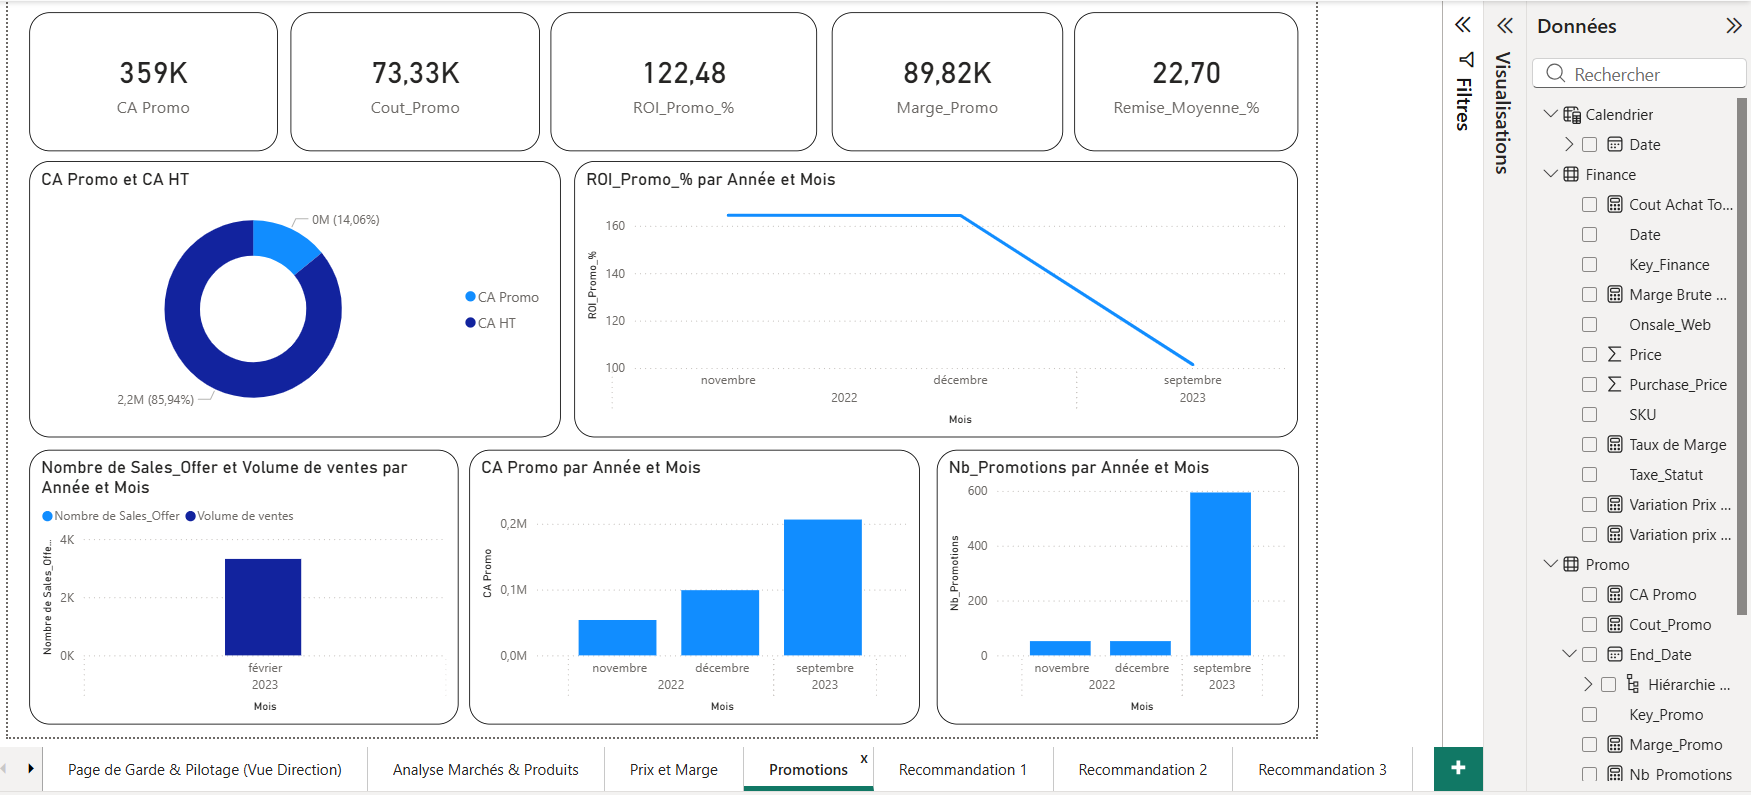

The page's visual inventory and layout, read from the dashboard file:
{"tool":"powerbi","page":{"name":"Promotions ","canvas":[1280,720],"ordinal":3},"visuals":[{"type":"columnChart","fields":{"Y":["Promo.CA Promo"],"Category":["Calendrier.Date.Variation.Hiérarchie de dates.Année","Calendrier.Date.Variation.Hiérarchie de dates.Mois"]},"box":[451.5,439.1,440.5,269],"z":0},{"type":"donutChart","fields":{"Y":["Promo.CA Promo","Sales.CA HT"]},"box":[20.6,156.4,520.1,270.3],"z":1000},{"type":"columnChart","fields":{"Category":["Calendrier.Date.Variation.Hiérarchie de dates.Année","Calendrier.Date.Variation.Hiérarchie de dates.Mois"],"Y":["CountNonNull(Promo.Sales_Offer)","Sales.Volume de ventes"]},"box":[20.6,439.1,419.9,269],"z":2000},{"type":"card","fields":{"Values":["Promo.CA Promo"]},"box":[20.6,11,242.9,135.8],"z":3000},{"type":"card","fields":{"Values":["Promo.Cout_Promo"]},"box":[275.8,11,244.3,135.8],"z":4000},{"type":"card","fields":{"Values":["Promo.Marge_Promo"]},"box":[805.5,11,226.4,135.8],"z":5000},{"type":"card","fields":{"Values":["Promo.ROI_Promo_%"]},"box":[531,11,260.7,135.8],"z":6000},{"type":"lineChart","fields":{"Y":["Promo.ROI_Promo_%"],"Category":["Calendrier.Date.Variation.Hiérarchie de dates.Année","Calendrier.Date.Variation.Hiérarchie de dates.Mois"]},"box":[554.4,156.4,708.1,270.3],"z":7000},{"type":"card","fields":{"Values":["Promo.Remise_Moyenne_%"]},"box":[1042.9,11,219.6,135.8],"z":8000},{"type":"columnChart","fields":{"Y":["Promo.Nb_Promotions"],"Category":["Calendrier.Date.Variation.Hiérarchie de dates.Année","Calendrier.Date.Variation.Hiérarchie de dates.Mois"]},"box":[908.4,439.1,354,269],"z":9000}]}

Visuals, with their boxes on the page's 1280x720 design canvas (x1, y1, x2, y2). These are canvas units, not pixel positions in the 1751x795 screenshot, which may show the page scaled, cropped or inside an application window:
columnChart - Promo.CA Promo x Calendrier.Date.Variation.Hiérarchie de dates.Année: locate(452, 439, 892, 708)
donutChart - Promo.CA Promo x Sales.CA HT: locate(21, 156, 541, 427)
columnChart - Calendrier.Date.Variation.Hiérarchie de dates.Année x Calendrier.Date.Variation.Hiérarchie de dates.Mois: locate(21, 439, 440, 708)
card - Promo.CA Promo: locate(21, 11, 264, 147)
card - Promo.Cout_Promo: locate(276, 11, 520, 147)
card - Promo.Marge_Promo: locate(806, 11, 1032, 147)
card - Promo.ROI_Promo_%: locate(531, 11, 792, 147)
lineChart - Promo.ROI_Promo_% x Calendrier.Date.Variation.Hiérarchie de dates.Année: locate(554, 156, 1262, 427)
card - Promo.Remise_Moyenne_%: locate(1043, 11, 1262, 147)
columnChart - Promo.Nb_Promotions x Calendrier.Date.Variation.Hiérarchie de dates.Année: locate(908, 439, 1262, 708)
